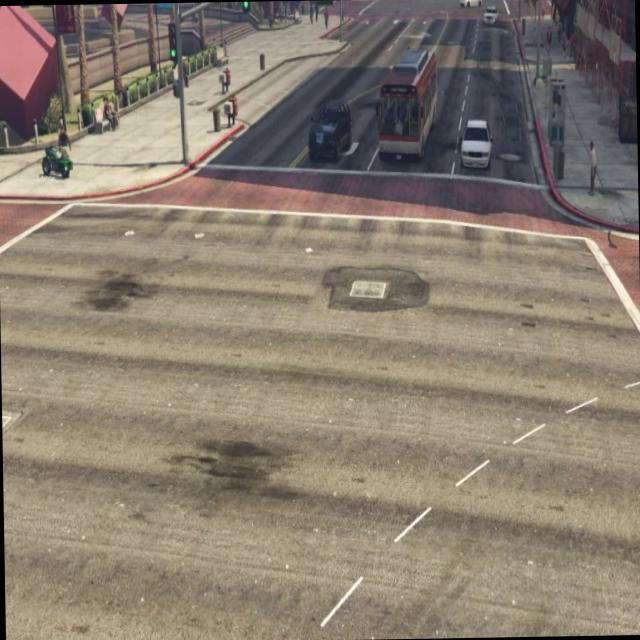Green-Signal: (160, 11, 182, 75), (234, 1, 256, 32), (312, 0, 339, 19)
